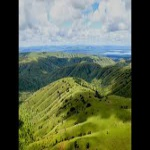Uncultivated: (26, 75, 129, 150)
